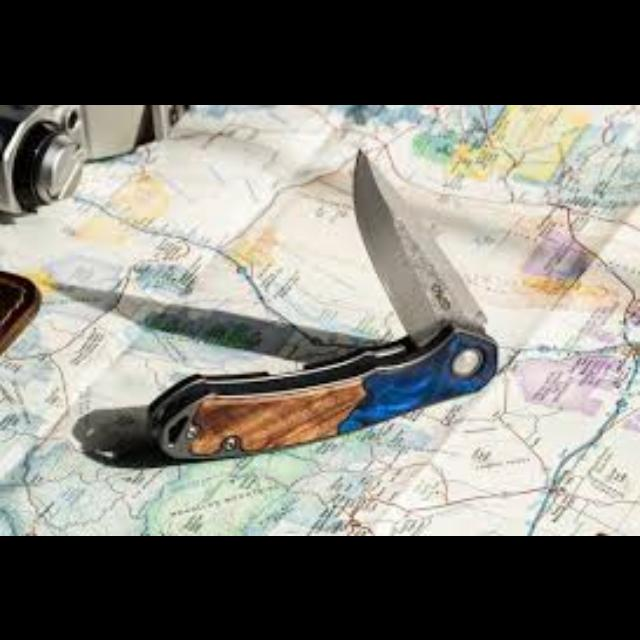knife: (71, 146, 497, 460)
